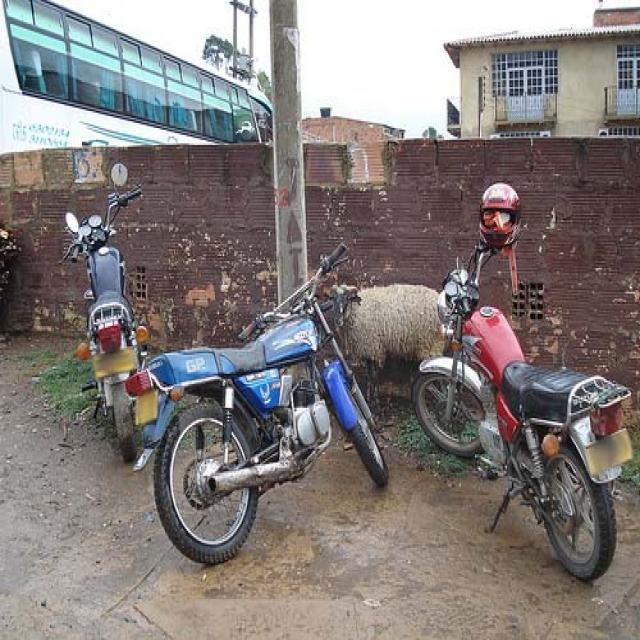Motorbike: (127, 235, 400, 575), (420, 187, 635, 588), (50, 187, 160, 459)
